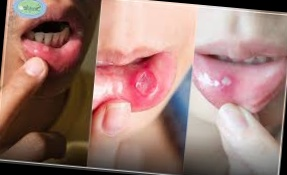Ulcer: (126, 62, 168, 103), (218, 71, 236, 86), (38, 40, 52, 57)
